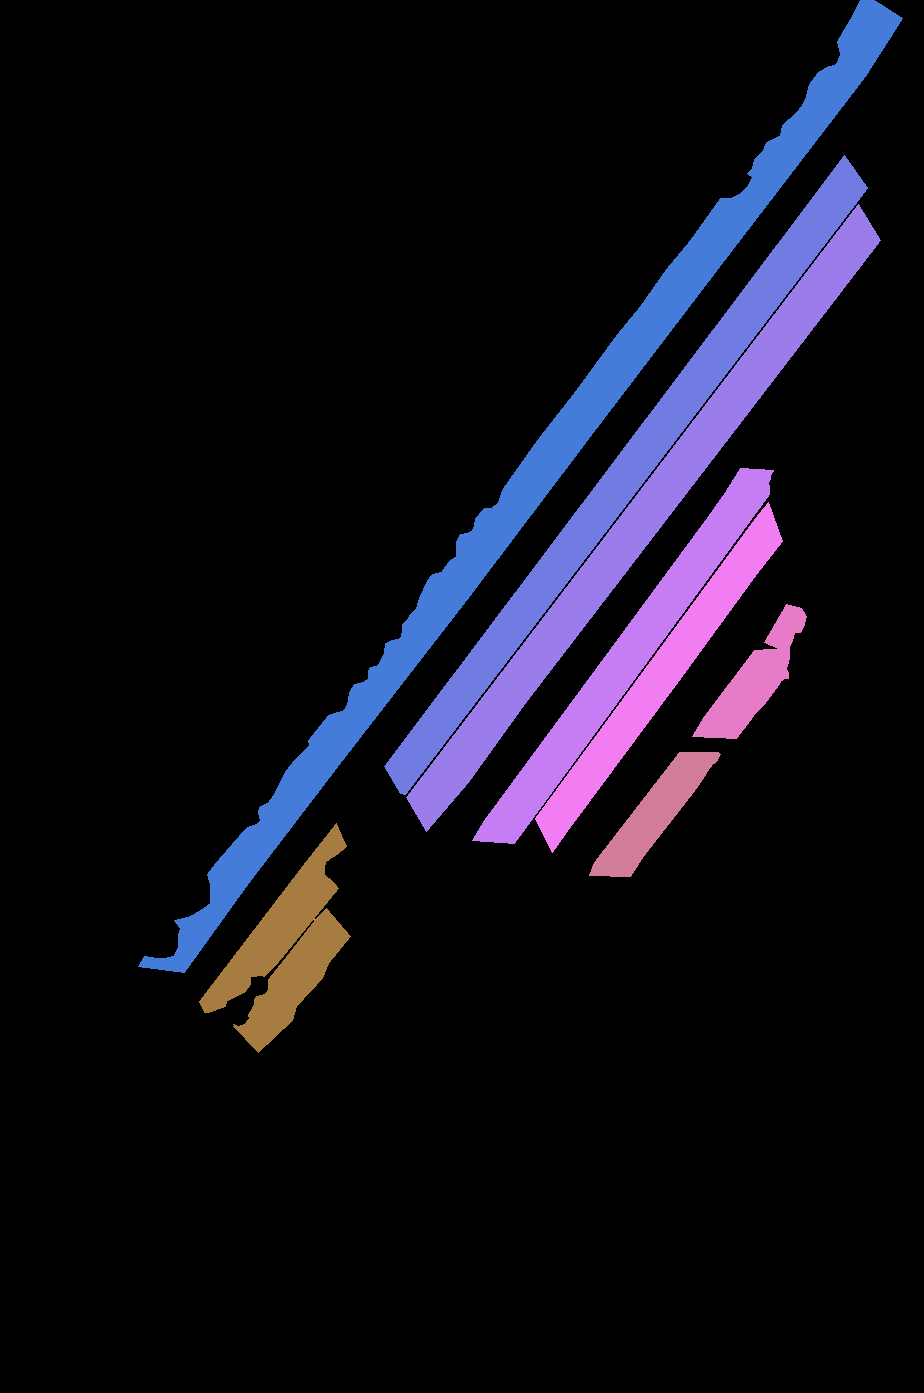parkingspot: (166, 19, 919, 1008), (138, 0, 902, 972), (384, 155, 867, 794), (406, 204, 880, 831), (0, 840, 452, 1392), (472, 468, 773, 843), (535, 502, 782, 852), (199, 823, 346, 1011), (233, 908, 350, 1052), (589, 752, 720, 876), (692, 648, 789, 738), (764, 604, 806, 650)
